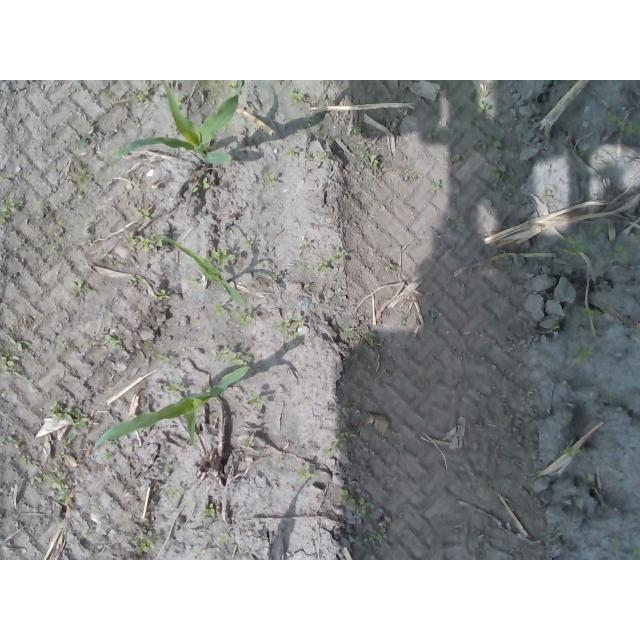Maize: (93, 364, 251, 452), (113, 81, 240, 168), (157, 234, 245, 307)
Weeds: (53, 402, 89, 431), (42, 470, 72, 503), (337, 487, 369, 514), (343, 325, 381, 347), (317, 247, 349, 273), (607, 109, 640, 134), (4, 436, 32, 465), (323, 430, 350, 458), (276, 313, 304, 339), (205, 247, 236, 269), (126, 233, 162, 251), (133, 528, 159, 552), (216, 347, 248, 366), (565, 234, 587, 259), (1, 351, 22, 375), (0, 198, 16, 225), (297, 461, 314, 483), (78, 132, 99, 148), (236, 306, 254, 323), (616, 244, 634, 261), (578, 345, 595, 363), (287, 88, 306, 104), (154, 350, 175, 364), (248, 392, 265, 408), (207, 96, 222, 112), (106, 334, 123, 347), (563, 445, 580, 458), (136, 208, 152, 221), (166, 382, 182, 395), (454, 216, 466, 233), (493, 159, 504, 177), (339, 404, 353, 418), (51, 452, 65, 466), (69, 281, 83, 295), (242, 435, 257, 448), (497, 375, 516, 385), (137, 89, 150, 103), (17, 338, 35, 348), (478, 103, 494, 114), (369, 532, 383, 544), (269, 270, 283, 282), (156, 289, 171, 300), (264, 173, 276, 186), (220, 531, 231, 545), (584, 472, 595, 485), (191, 275, 201, 289), (213, 303, 226, 313), (369, 154, 379, 167), (431, 180, 441, 193), (208, 503, 217, 517), (585, 307, 596, 318), (202, 176, 210, 191), (426, 127, 436, 139), (230, 80, 238, 94), (454, 154, 466, 163), (577, 147, 587, 157), (102, 450, 111, 461), (167, 488, 178, 497), (352, 124, 364, 132), (288, 147, 297, 157), (192, 186, 199, 195), (553, 322, 559, 331), (399, 319, 405, 326)
